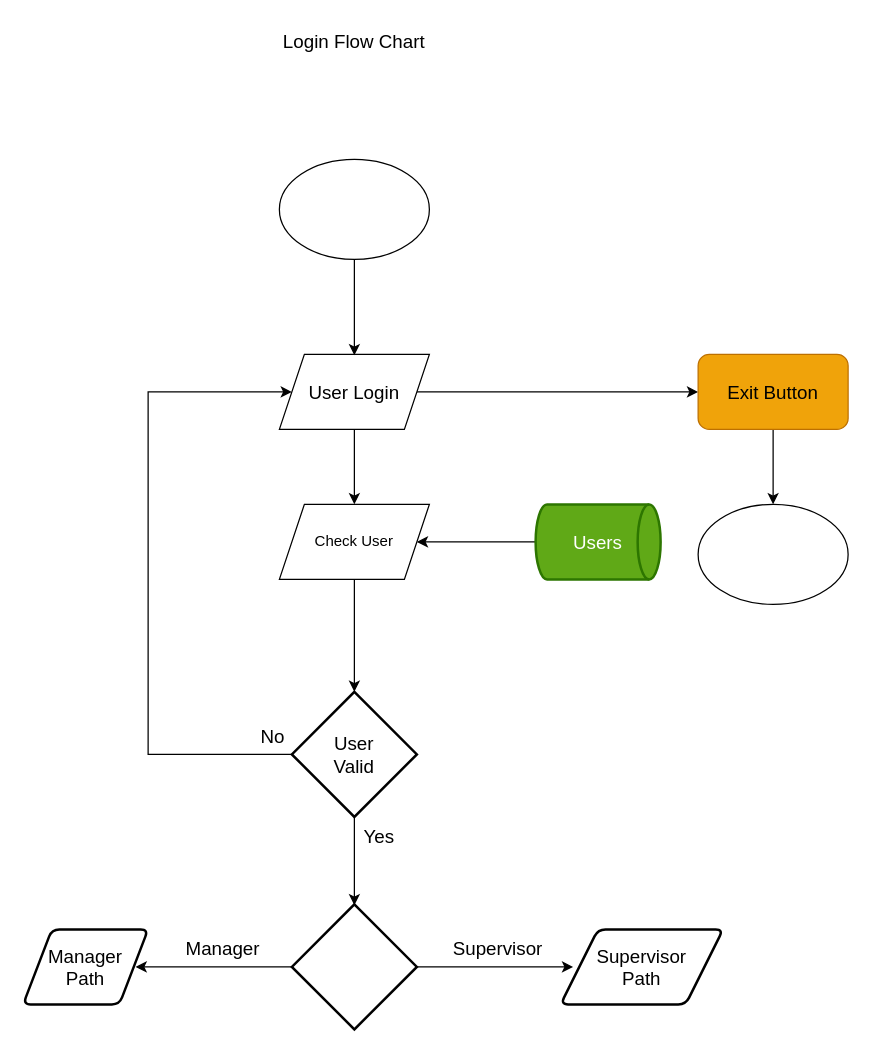
This 870x1051 diagram has some shape labels left out. Each missing label, with the box of its shape:
Check Role: (290, 902, 418, 1030)
End: (697, 503, 848, 604)
Start: (278, 158, 429, 259)
